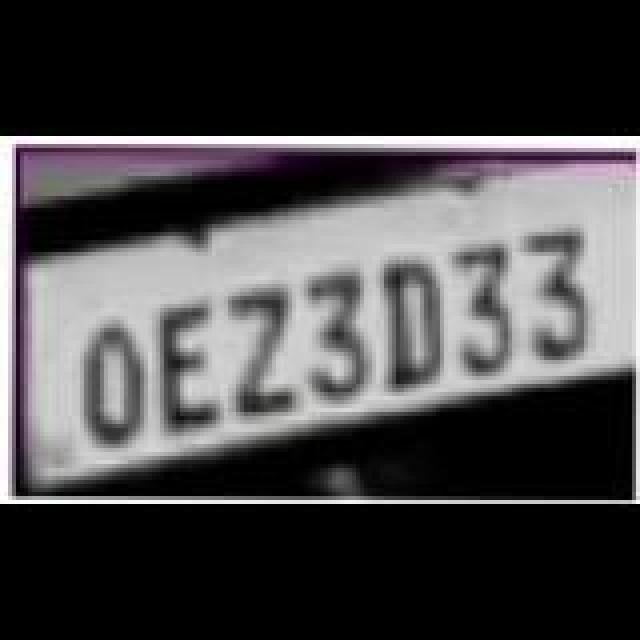3: (294, 272, 378, 408), (516, 226, 596, 366), (444, 242, 524, 382)
D: (374, 260, 458, 396)
E: (152, 304, 232, 440)
O: (72, 322, 152, 454)
Z: (222, 288, 306, 424)
